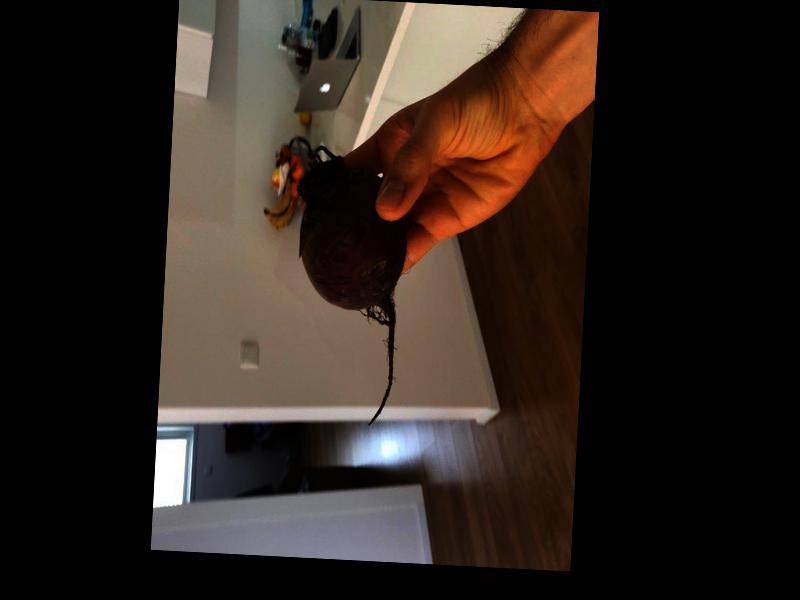Beet: (287, 146, 410, 427)
